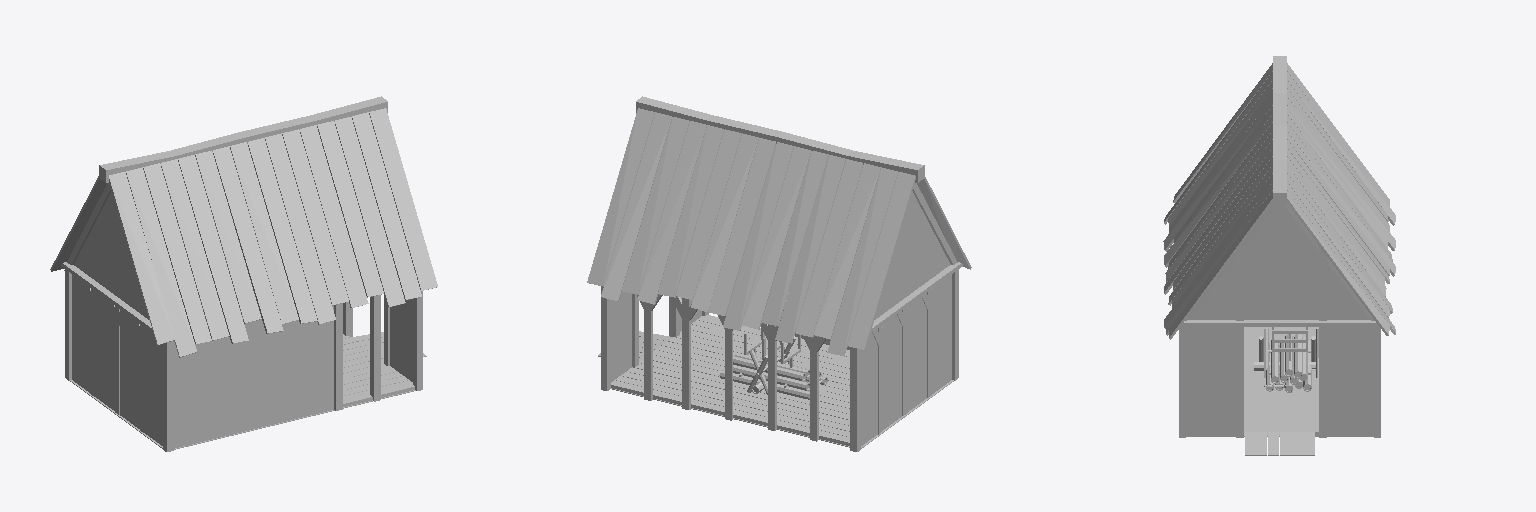
File: sawmill.obj
The picture shows the model from 3 angles: view 1: azimuth 30°, elevation 25°; view 2: azimuth 150°, elevation 25°; view 3: azimuth 270°, elevation 25°; orthographic projection.
Parts seen in each view (by area): view 1: Sawmill_Cube.005; view 2: Sawmill_Cube.005, Logs_Cube.002; view 3: Sawmill_Cube.005, Logs_Cube.002, Sawbuck_Cube.003, Log_Stand_Cube.001.
Part boxes in pixels (x1,y1,x2,y2): Sawmill_Cube.005: (50, 96, 437, 451); Sawmill_Cube.005: (587, 96, 971, 451); Logs_Cube.002: (719, 353, 827, 399); Sawmill_Cube.005: (1163, 56, 1395, 455); Logs_Cube.002: (1266, 334, 1311, 392); Sawbuck_Cube.003: (1258, 329, 1318, 377); Log_Stand_Cube.001: (1269, 327, 1310, 374).
Size of the model in its own units: 11.34 by 8.88 by 7.47.